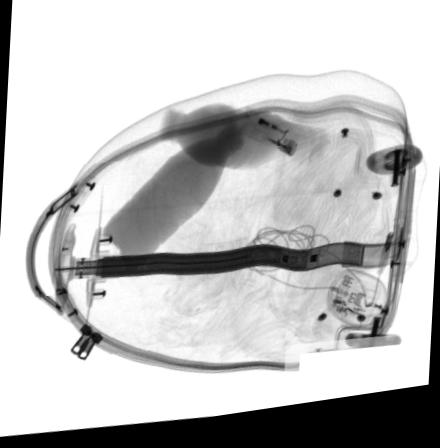Lighter: (245, 121, 299, 165)
